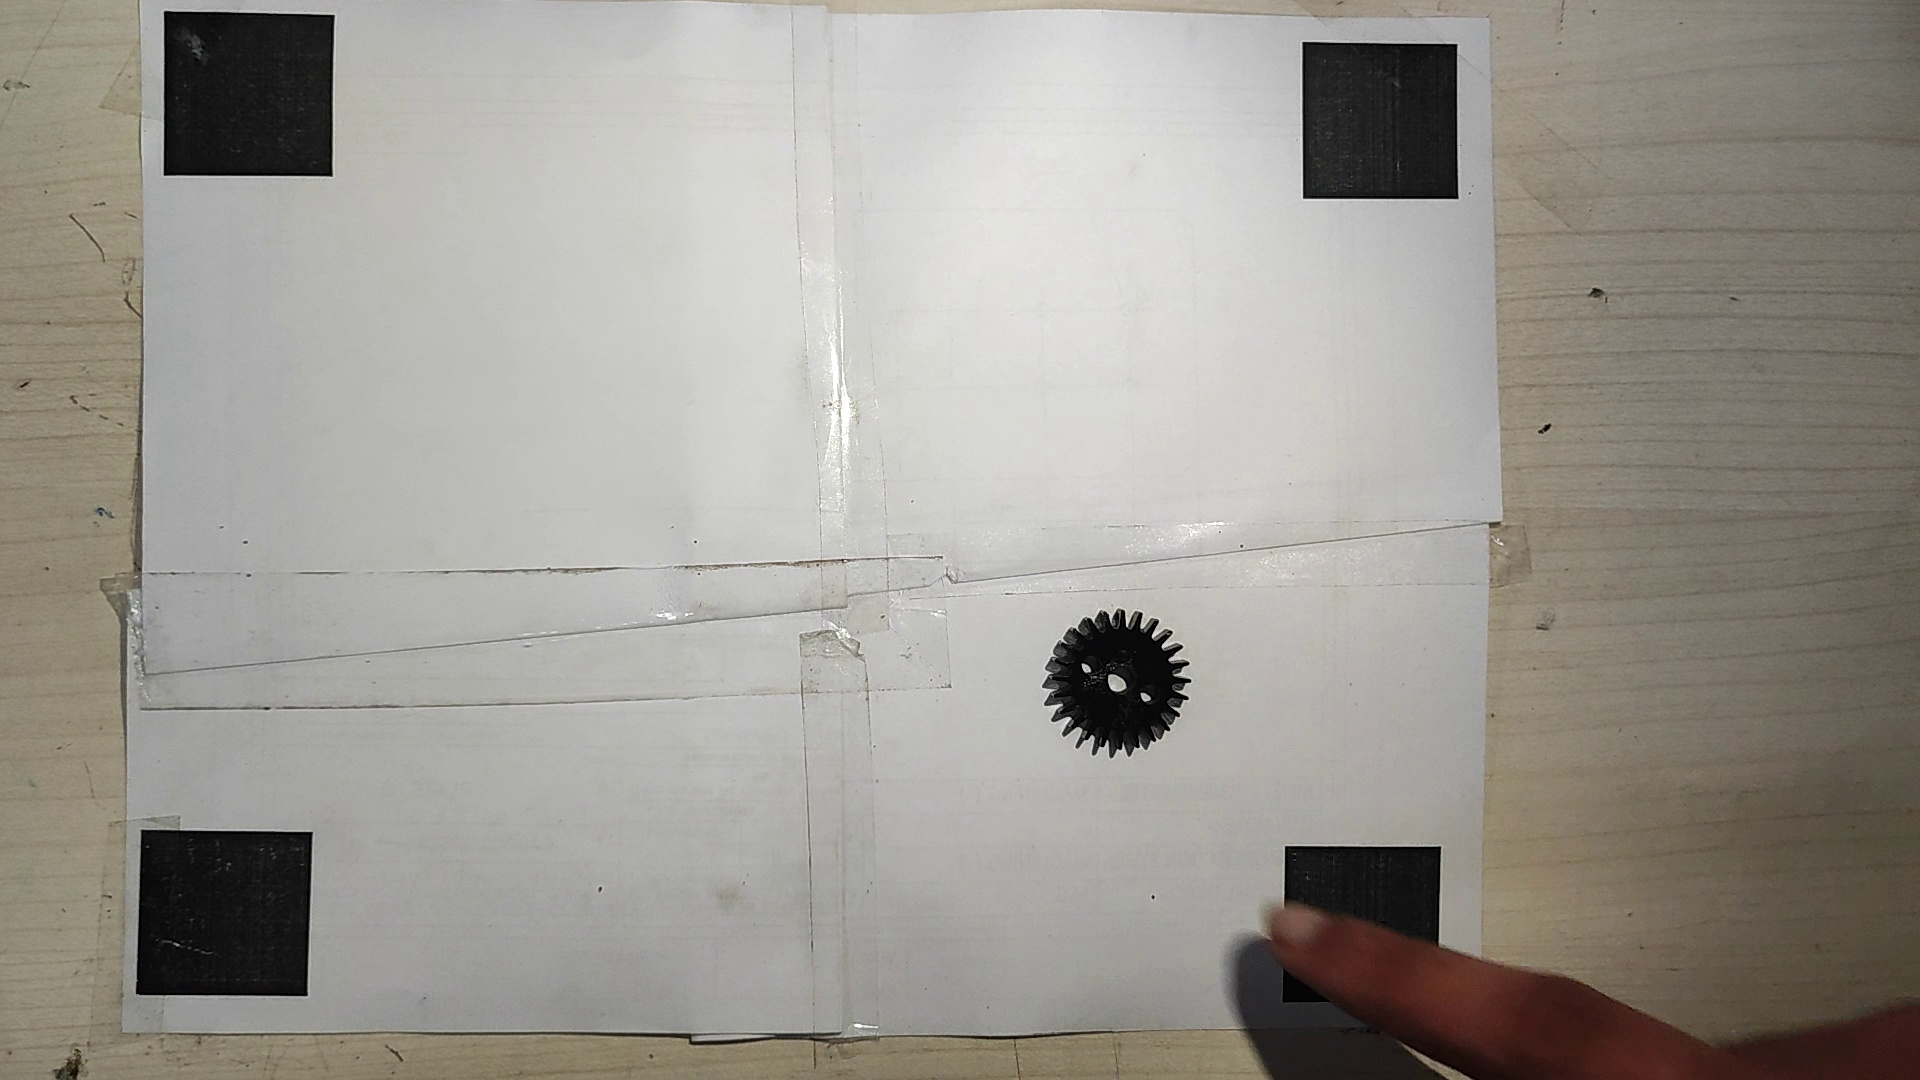Gear: (1040, 603, 1194, 762)
